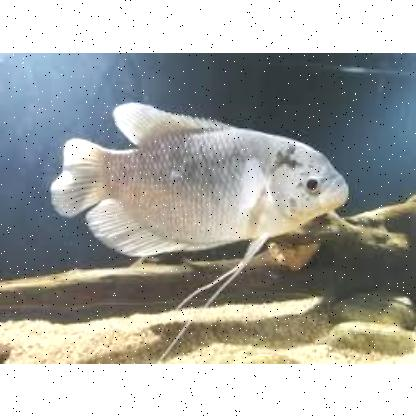gurame: (60, 106, 348, 254)
